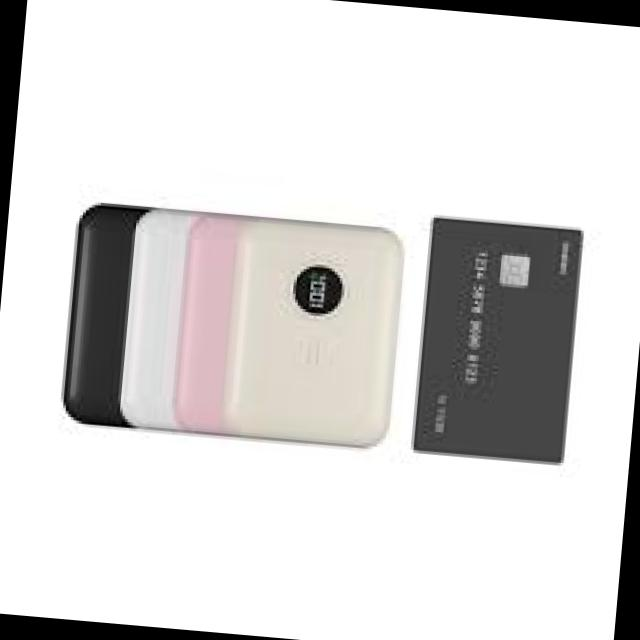power_bank: (222, 216, 410, 452), (166, 211, 245, 438), (63, 200, 138, 434), (114, 211, 190, 431)
